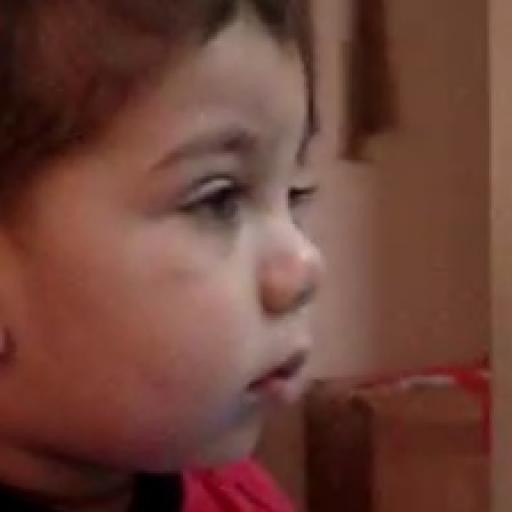Autism: (55, 0, 392, 469)
